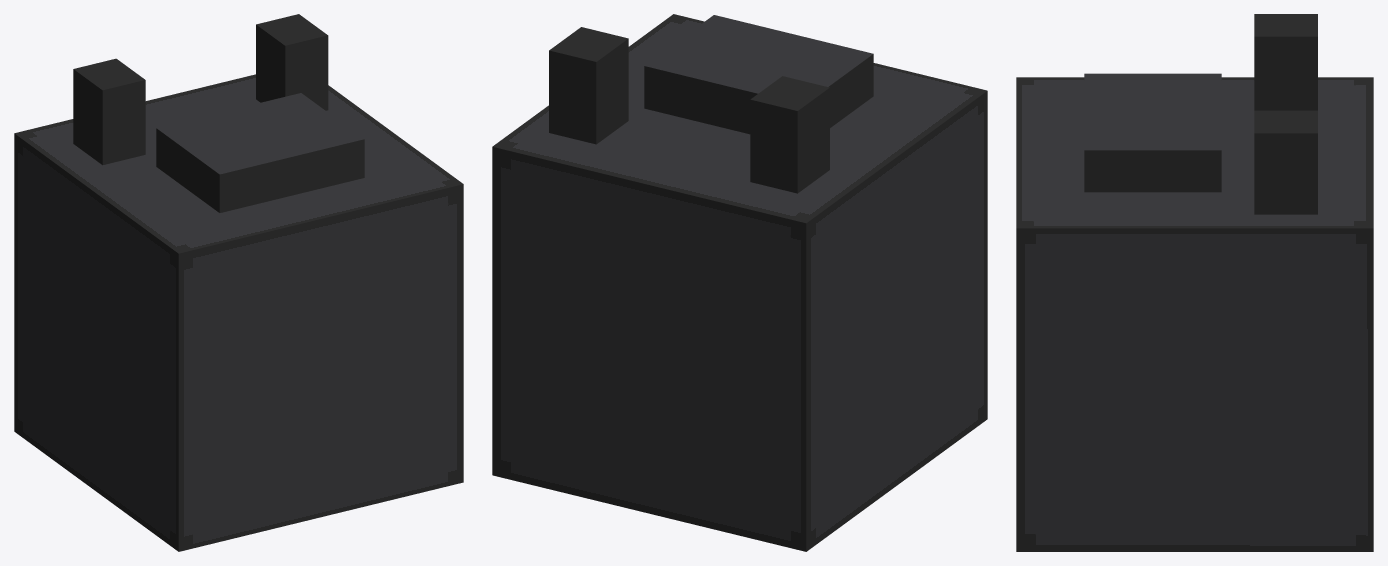
File: Monster.obj
The picture shows the model from 3 angles, left to right: view 1: azimuth 30°, elevation 25°; view 2: azimuth 150°, elevation 25°; view 3: azimuth 270°, elevation 25°; orthographic projection. The views are drawn at different scales.
Visible parts, largest first — view 1: Cube.009; view 2: Cube.009; view 3: Cube.009.
Boxes of the visible parts, box(x1,y1,x2,y2) form: Cube.009: box(14, 14, 463, 551); Cube.009: box(492, 14, 987, 551); Cube.009: box(1016, 14, 1373, 551).
Bounding box in the file's own units: 2 × 2.5 × 2.
